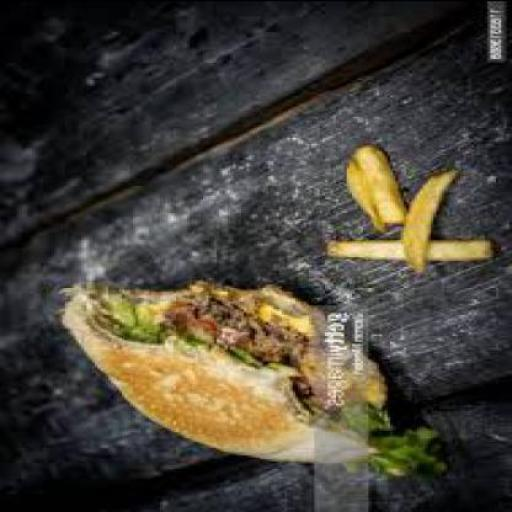biodegradable: (54, 278, 444, 476), (342, 142, 412, 227), (402, 166, 460, 268), (322, 232, 490, 264)
